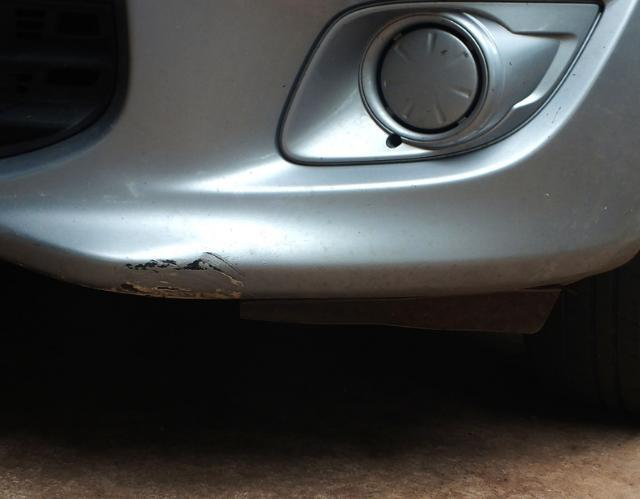Bumper: (104, 233, 262, 307)
